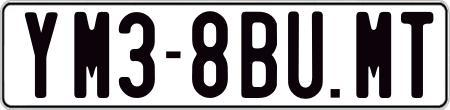3: (117, 11, 159, 97)
8: (190, 10, 228, 102)
B: (239, 12, 275, 103)
M: (353, 12, 394, 101), (71, 9, 110, 101)
T: (400, 9, 432, 99)
U: (288, 10, 324, 102)
Y: (24, 12, 59, 103)
